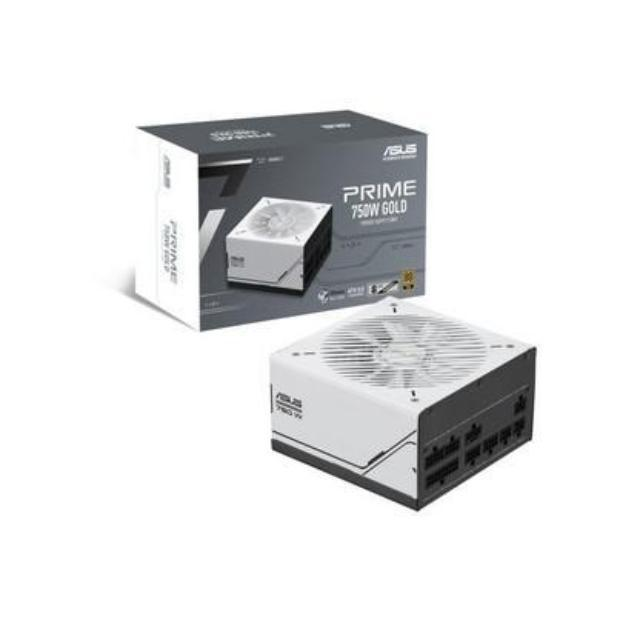PSU: (248, 291, 557, 520), (218, 192, 342, 300)
